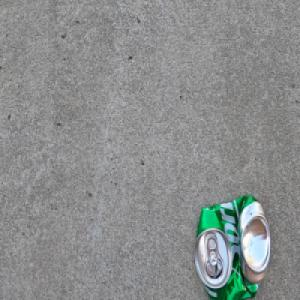SodaCan: (193, 192, 271, 300)
